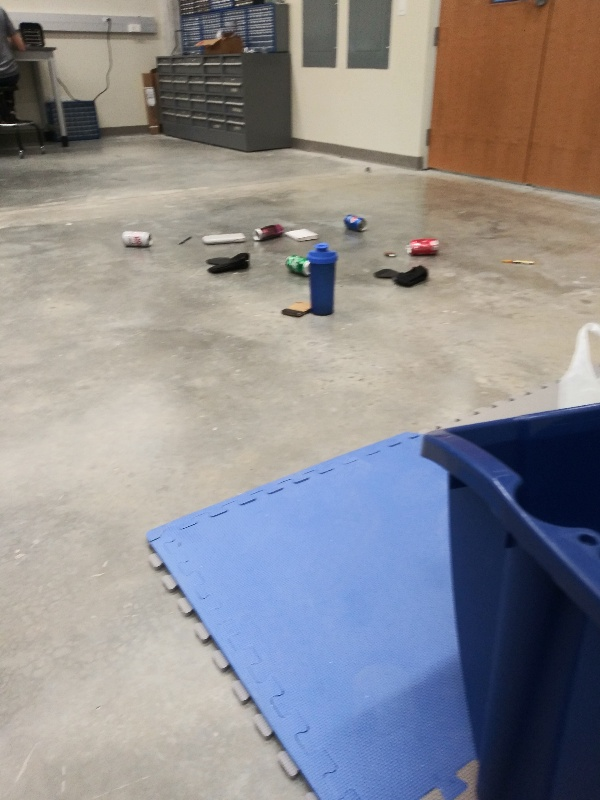can: (405, 236, 441, 261), (119, 229, 155, 251), (340, 210, 369, 235), (282, 253, 312, 277), (252, 223, 286, 243)
